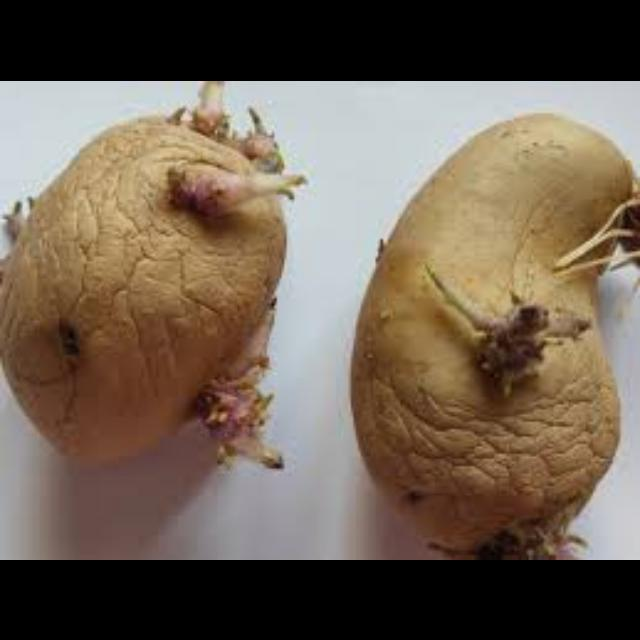Sprouted potato: (354, 80, 640, 560), (1, 80, 298, 468)
